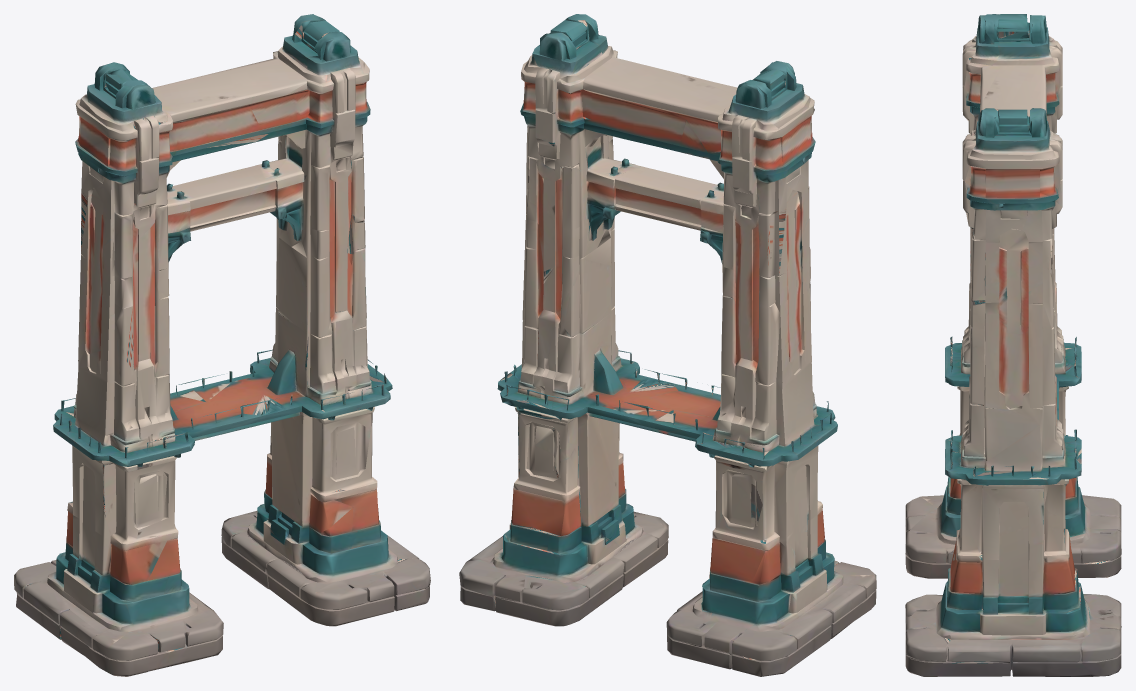
Rendered from bridge-tower-mobile.glb.
The picture shows the model from 3 angles, left to right: view 1: azimuth 30°, elevation 25°; view 2: azimuth 150°, elevation 25°; view 3: azimuth 270°, elevation 25°; orthographic projection. The views are drawn at different scales.
Visible parts, largest first — view 1: model; view 2: model; view 3: model.
Part boxes in pixels (bbox=[...]): model: bbox=[14, 14, 430, 676]; model: bbox=[459, 14, 876, 676]; model: bbox=[905, 14, 1121, 676].
Bounding box in the file's own units: 1.18 × 1.9 × 0.6925.
Materials: 1 (1 with a texture image).
